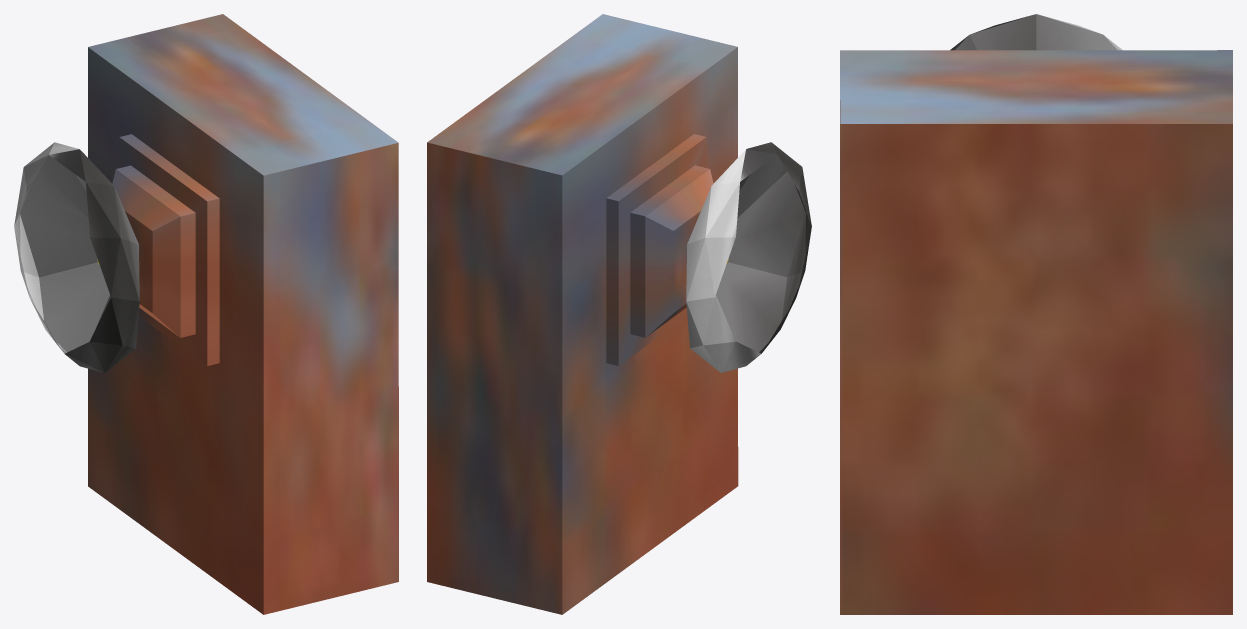
The model's file is flashlight.glb.
3 views of the same model, side by side, from view 1: azimuth 30°, elevation 25°; view 2: azimuth 150°, elevation 25°; view 3: azimuth 270°, elevation 25° (orthographic). The views are drawn at different scales.
Parts seen in each view (by area): view 1: Cube, Icosphere; view 2: Cube, Icosphere; view 3: Cube, Icosphere.
Part boxes in pixels (x1=…): Cube: x1=88, y1=14, x2=398, y2=614; Icosphere: x1=14, y1=142, x2=139, y2=372; Cube: x1=427, y1=14, x2=738, y2=614; Icosphere: x1=686, y1=142, x2=811, y2=372; Cube: x1=840, y1=50, x2=1232, y2=614; Icosphere: x1=950, y1=14, x2=1122, y2=50.
Size of the model in its own units: 1.66 by 2.76 by 2.
3 materials, 3 textured.
